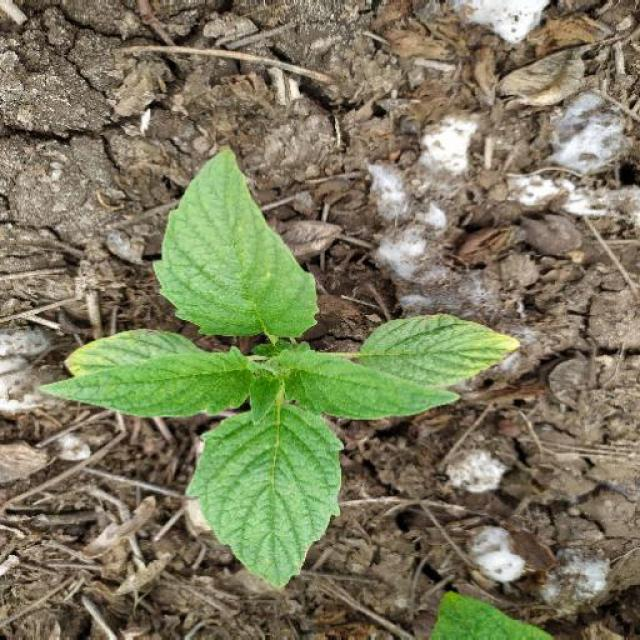crop: (50, 141, 514, 585)
